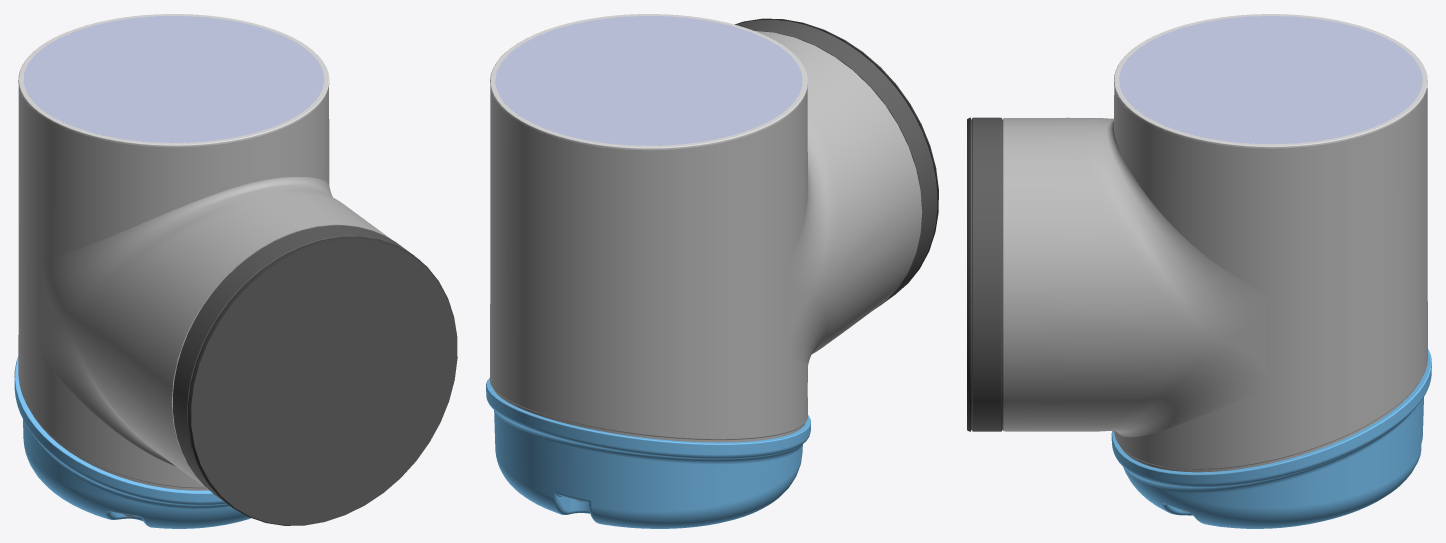
File: wrist1.dae
3 renders of one model, left to right at view 1: azimuth 30°, elevation 25°; view 2: azimuth 150°, elevation 25°; view 3: azimuth 270°, elevation 25°, orthographic. The views are drawn at different scales.
Visible parts, largest first — view 1: _3DGeom_317, _3DGeom_315, _3DGeom_318, _3DGeom_316, Body_1, _3DGeom_320; view 2: _3DGeom_317, _3DGeom_318, _3DGeom_316, _3DGeom_315, Body_1, _3DGeom_320; view 3: _3DGeom_317, _3DGeom_318, _3DGeom_316, _3DGeom_315, Body_1, _3DGeom_320.
Part boxes in pixels (box(x1,y1,x2,y2)): _3DGeom_317: box(18, 86, 391, 490); _3DGeom_315: box(173, 225, 457, 525); _3DGeom_318: box(23, 16, 324, 142); _3DGeom_316: box(14, 357, 251, 528); Body_1: box(18, 14, 329, 147); _3DGeom_320: box(188, 236, 457, 525); _3DGeom_317: box(490, 31, 922, 442); _3DGeom_318: box(495, 16, 802, 145); _3DGeom_316: box(486, 378, 810, 528); _3DGeom_315: box(735, 19, 937, 307); Body_1: box(490, 14, 807, 150); _3DGeom_320: box(735, 18, 938, 284); _3DGeom_317: box(1003, 88, 1427, 472); _3DGeom_318: box(1119, 16, 1422, 143); _3DGeom_316: box(1111, 349, 1431, 528); _3DGeom_315: box(971, 117, 1003, 431); Body_1: box(1114, 14, 1427, 148); _3DGeom_320: box(967, 117, 970, 431).
Bounding box in the file's own units: 0.0644 × 0.0933 × 0.0896.
